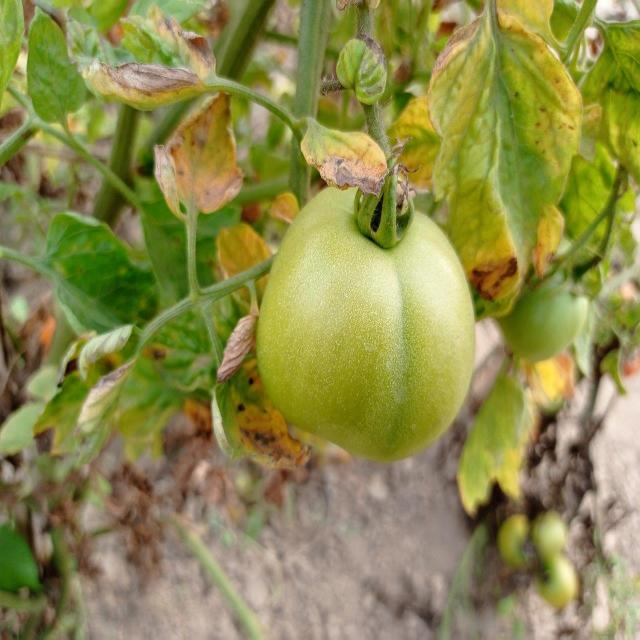Unripe: (260, 181, 477, 463)
